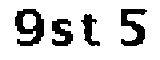5: (116, 7, 148, 53)
9: (9, 6, 46, 50)
s: (47, 17, 77, 50)
t: (79, 10, 104, 53)
